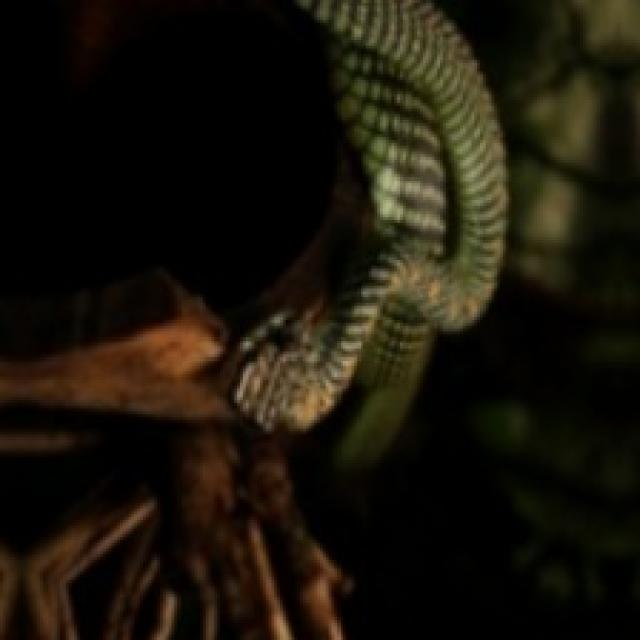paradise tree snake: (231, 0, 508, 430)
